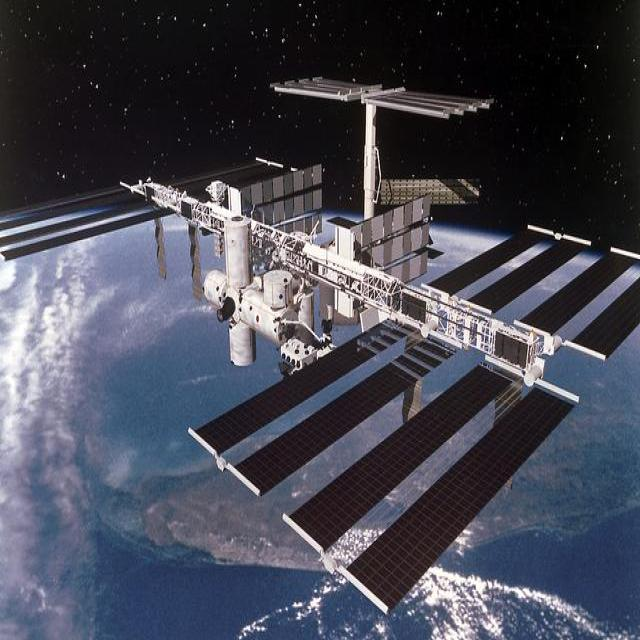satellite: (0, 78, 640, 611)
